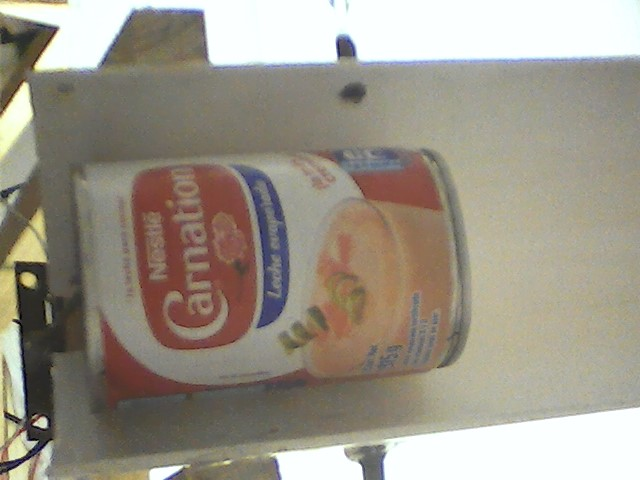lata: (66, 145, 479, 420)
